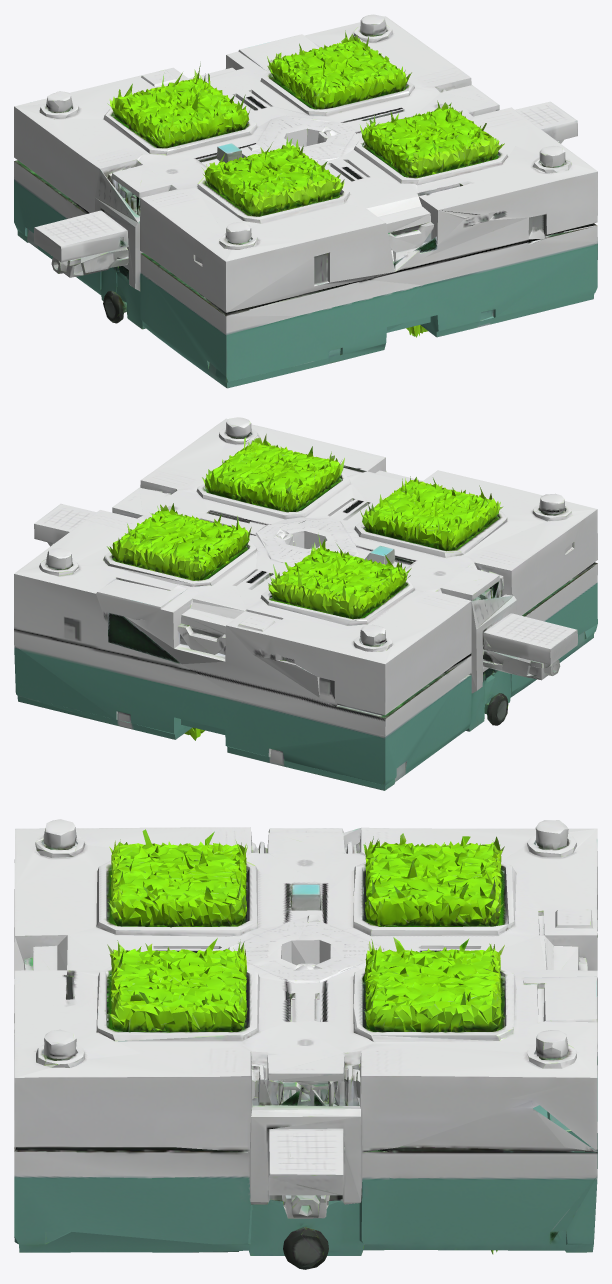
File: ocean-farm-platform-mesh.glb
3 renders of one model, top to bottom at view 1: azimuth 30°, elevation 25°; view 2: azimuth 150°, elevation 25°; view 3: azimuth 270°, elevation 25°, orthographic. The views are drawn at different scales.
Parts seen in each view (by area): view 1: Mesh_0; view 2: Mesh_0; view 3: Mesh_0.
Part boxes in pixels (<box>): Mesh_0: <box>14,14,597,388</box>; Mesh_0: <box>14,417,597,790</box>; Mesh_0: <box>14,819,597,1269</box>.
Size of the model in its own units: 1.9 by 0.6987 by 1.35.
1 material, 1 textured.
